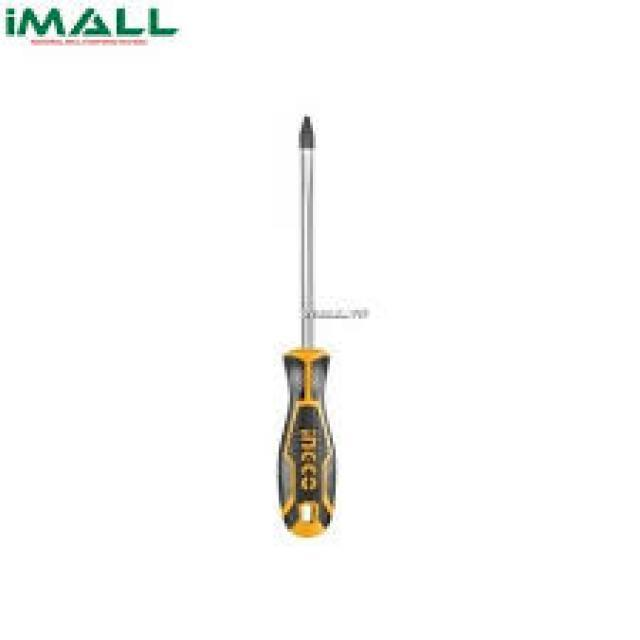screwdriver: (274, 108, 338, 538)
